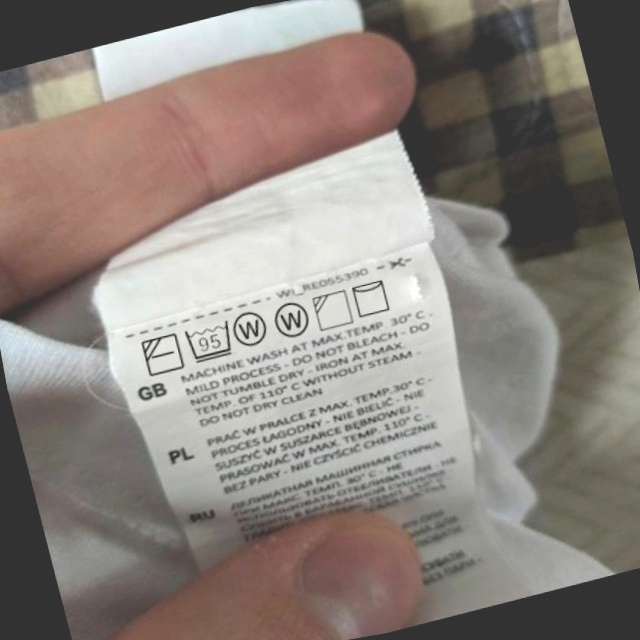95C: (181, 316, 238, 366)
dry_flat_in_shade: (137, 329, 187, 380)
line_dry: (347, 274, 396, 321)
shade_dry: (309, 286, 357, 334)
wet_clean: (229, 303, 274, 352), (269, 297, 315, 344)
